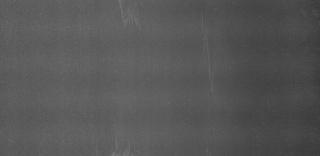silk spot: (194, 22, 222, 101), (112, 4, 156, 30)
